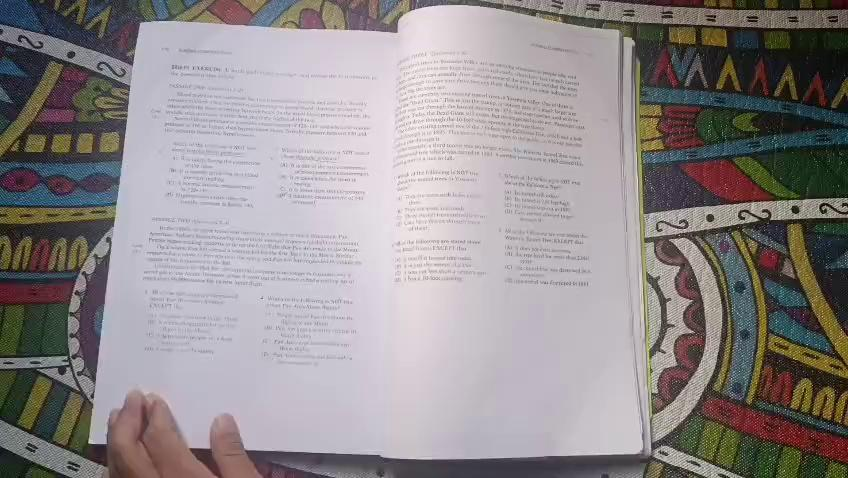Kertas: (146, 36, 450, 393), (377, 42, 634, 454)
